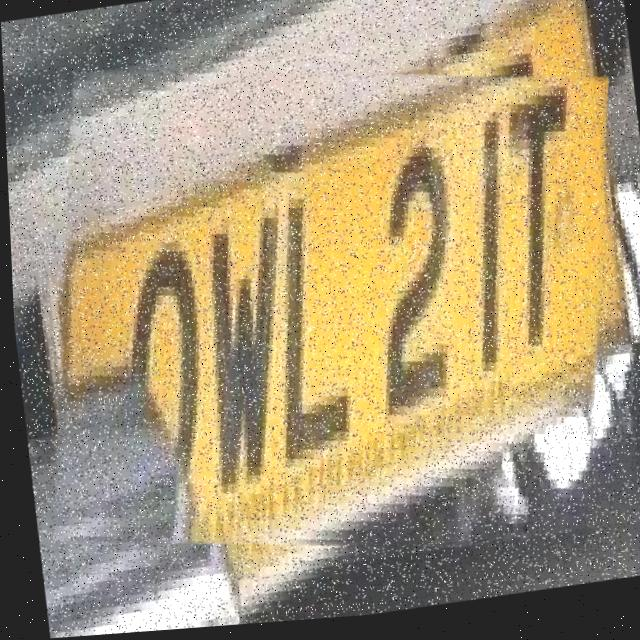LicensePlate: (16, 22, 639, 606)
